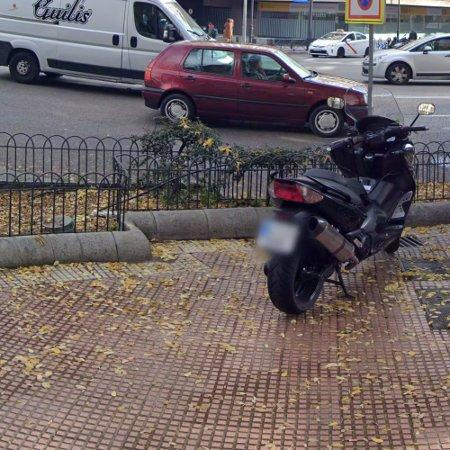motorcycles: (257, 116, 427, 315), (258, 116, 427, 315)
